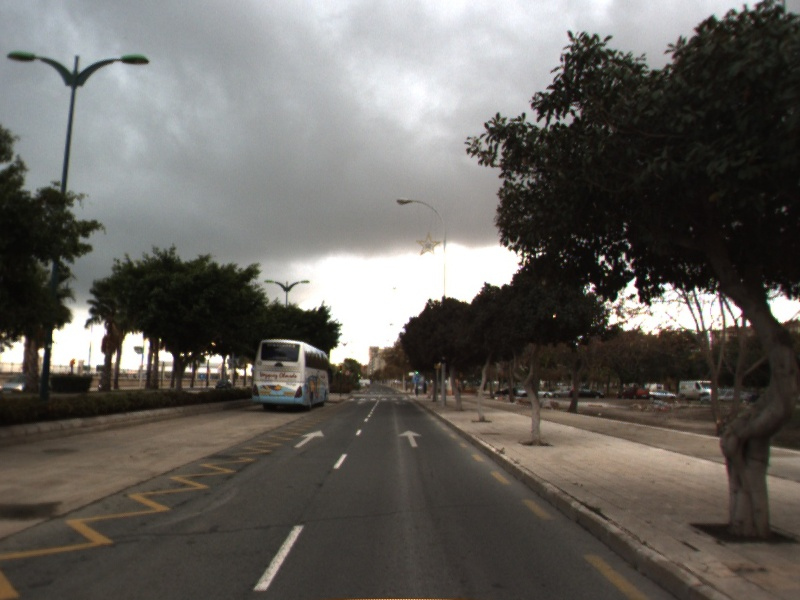STRAIGHT: (292, 428, 326, 450), (396, 428, 426, 449)
